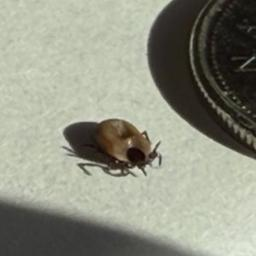Ixodes scapularis: (86, 118, 162, 177)
